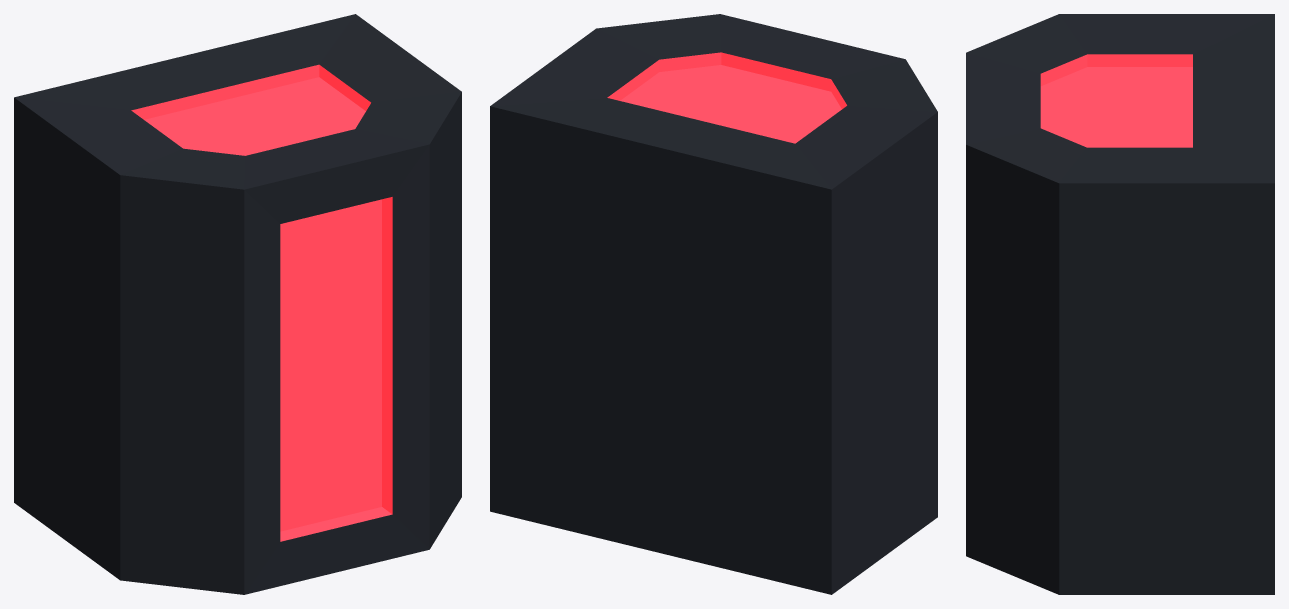
The model's file is red_anubis.gltf.
3 views of the same model, side by side, from view 1: azimuth 30°, elevation 25°; view 2: azimuth 150°, elevation 25°; view 3: azimuth 270°, elevation 25° (orthographic).
Visible parts, largest first — view 1: red_anubis; view 2: red_anubis; view 3: red_anubis.
Boxes of the visible parts, <box> form: red_anubis: <box>14,14,461,594</box>; red_anubis: <box>490,14,937,594</box>; red_anubis: <box>966,14,1274,594</box>.
Size of what is drawn, in the model's own units: 1.5 by 1.7 by 1.16.
Materials: 2 (2 with a texture image).
